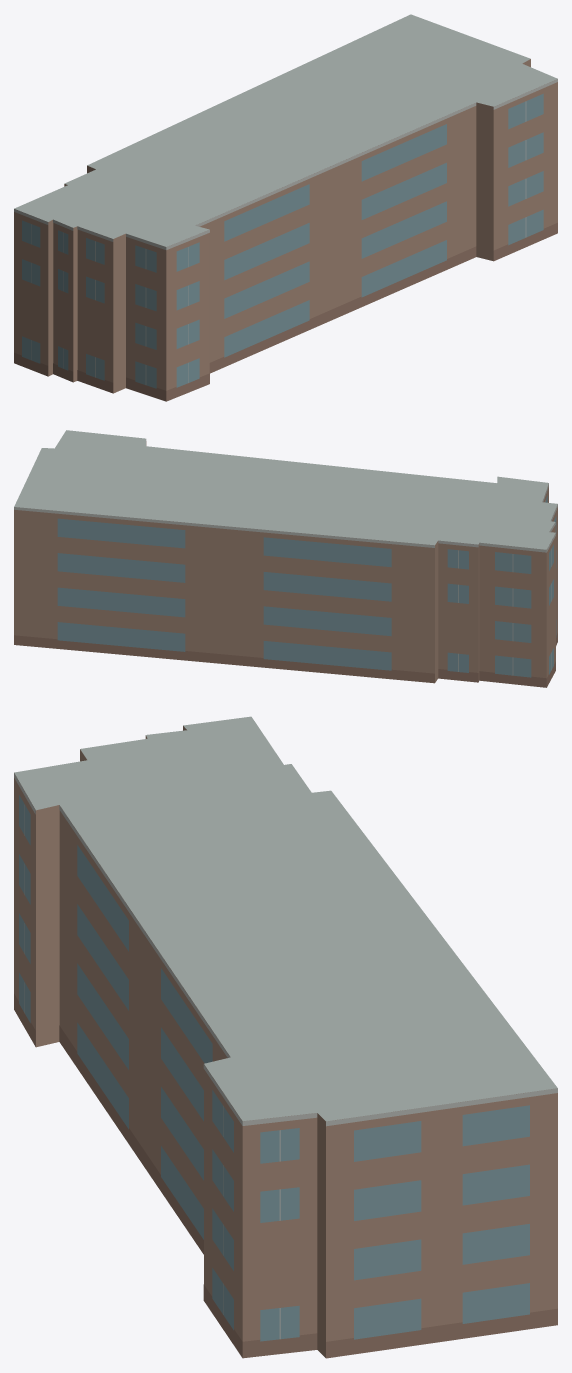
Rendered from survey-upis-32468708.glb.
The picture shows the model from 3 angles, top to bottom: view 1: azimuth 30°, elevation 25°; view 2: azimuth 150°, elevation 25°; view 3: azimuth 270°, elevation 25°; orthographic projection. The views are drawn at different scales.
Visible parts, largest first — view 1: survey-upis-32468708.tmp; view 2: survey-upis-32468708.tmp; view 3: survey-upis-32468708.tmp.
Boxes of the visible parts, x1,y1,x2,y2 form: survey-upis-32468708.tmp: [14, 14, 557, 401]; survey-upis-32468708.tmp: [14, 430, 557, 687]; survey-upis-32468708.tmp: [14, 716, 557, 1358].
Size of the model in its own units: 43.62 by 11.9 by 24.76.
